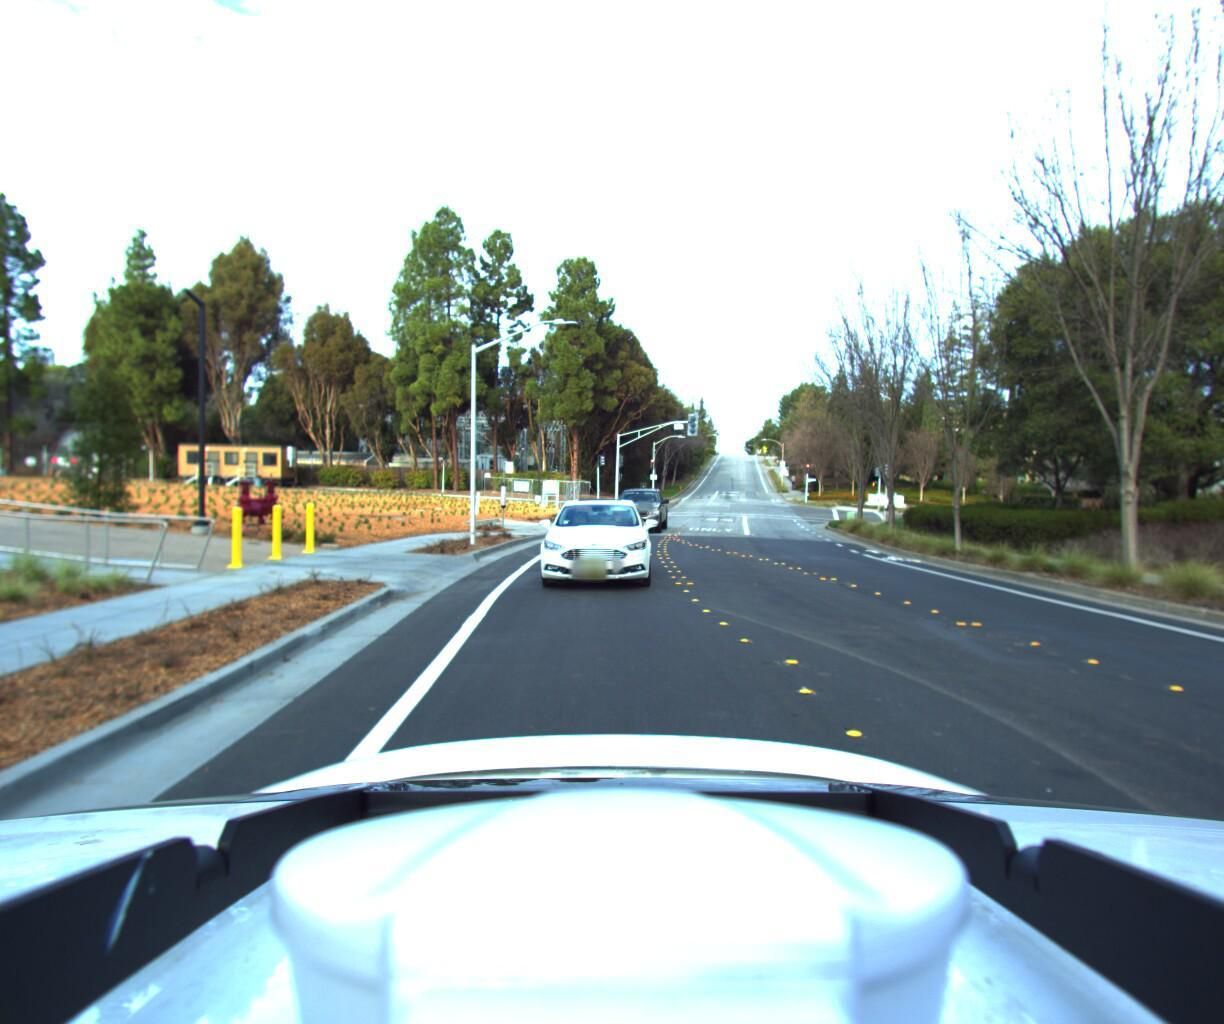car: (527, 492, 654, 599), (607, 482, 673, 535)
